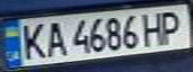4: (66, 16, 90, 55)
6: (121, 12, 145, 50), (87, 15, 109, 53)
8: (103, 15, 127, 52)
A: (42, 18, 69, 57)
H: (139, 9, 169, 47)
K: (15, 20, 48, 61)
P: (157, 8, 190, 45)
